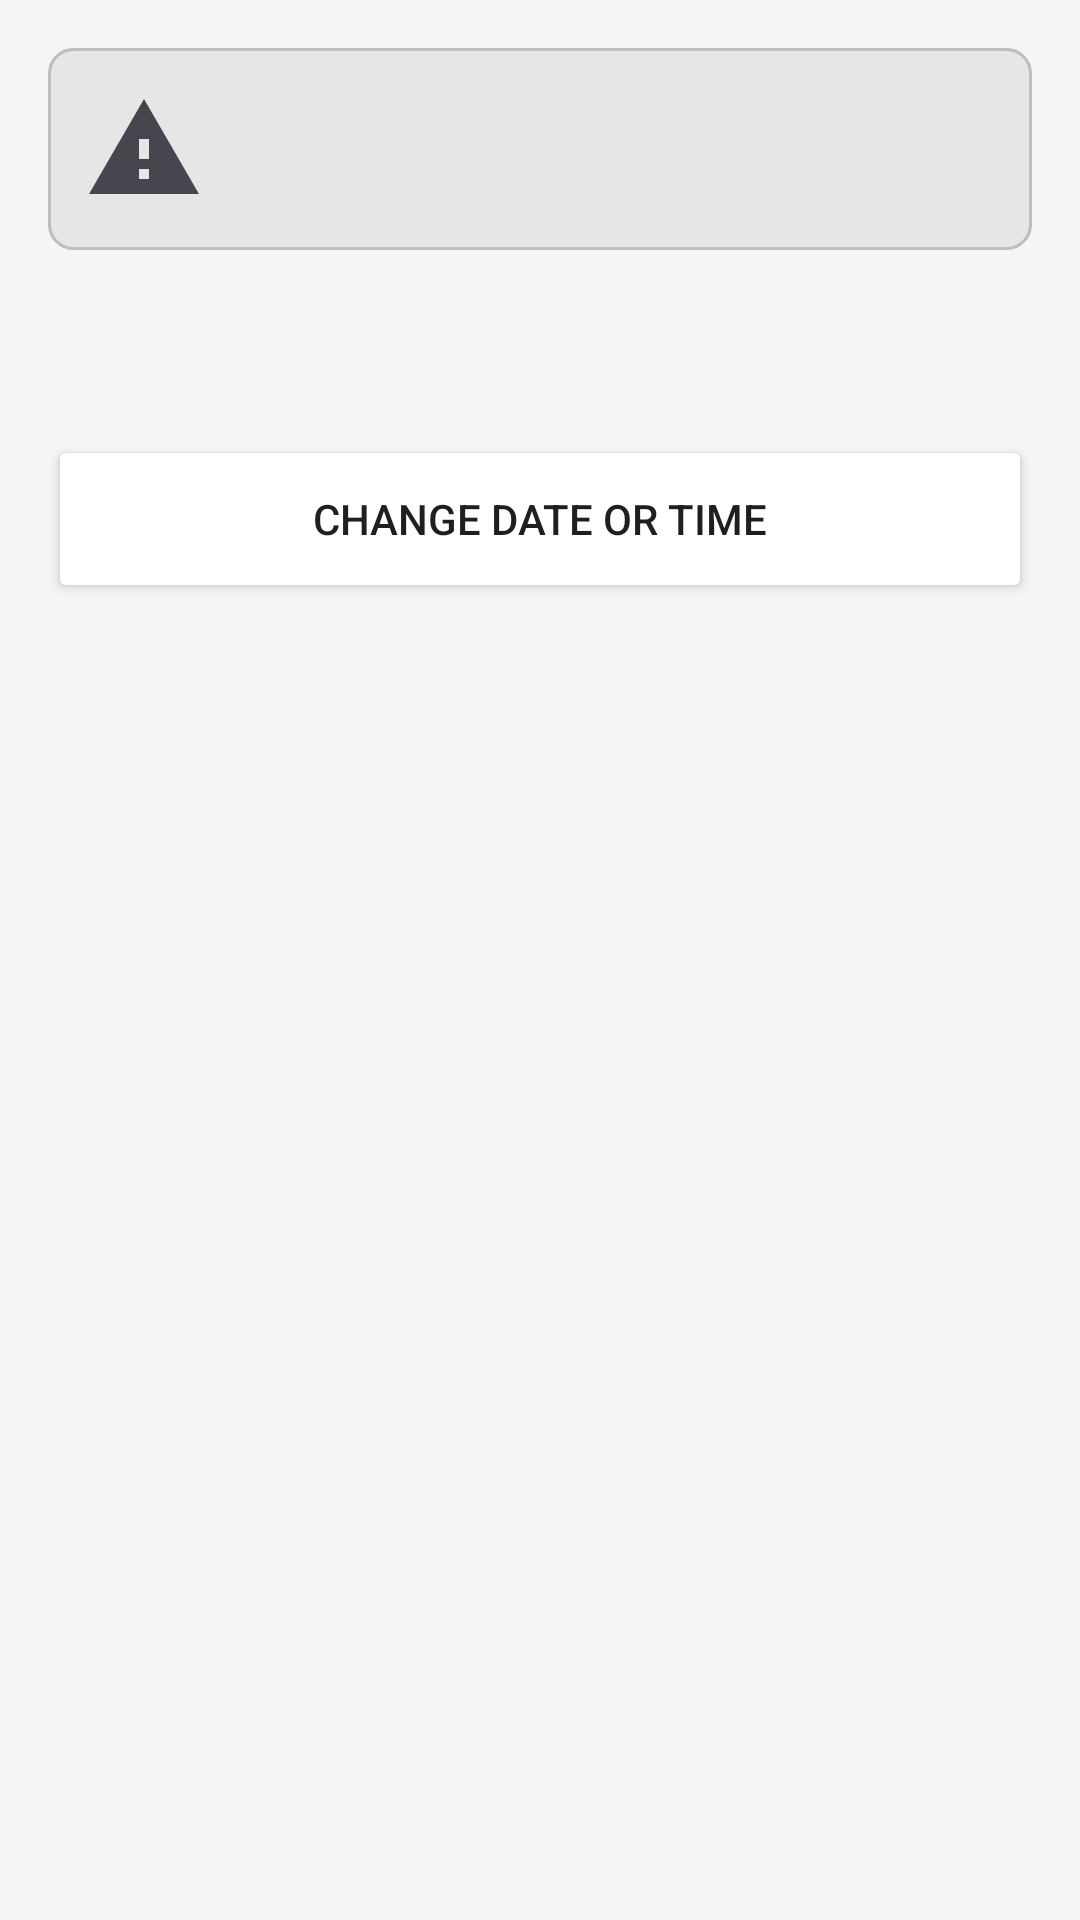

Icons on this 1080w x 1920h Android screen, each with the point to tap as [x,y]:
Warning: [144,146]
